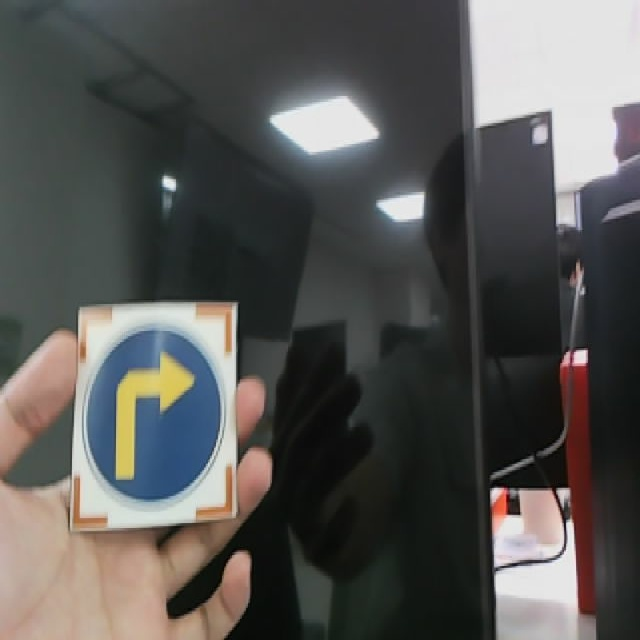right: (70, 303, 243, 527)
